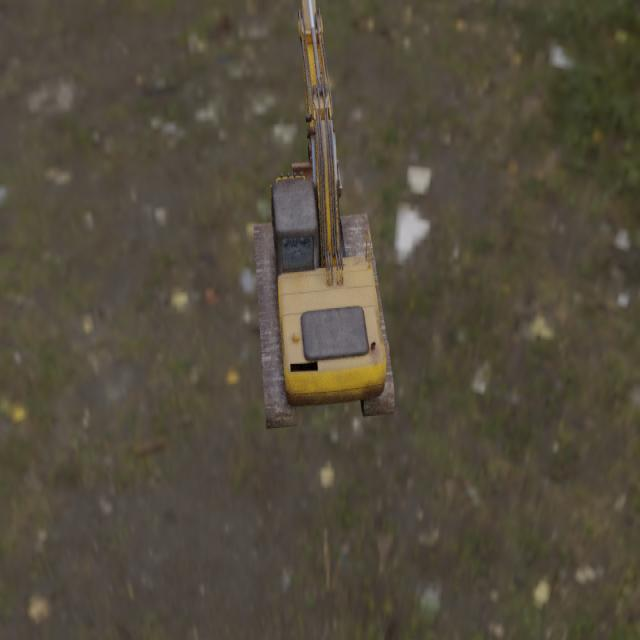excavator: (252, 0, 394, 431)
